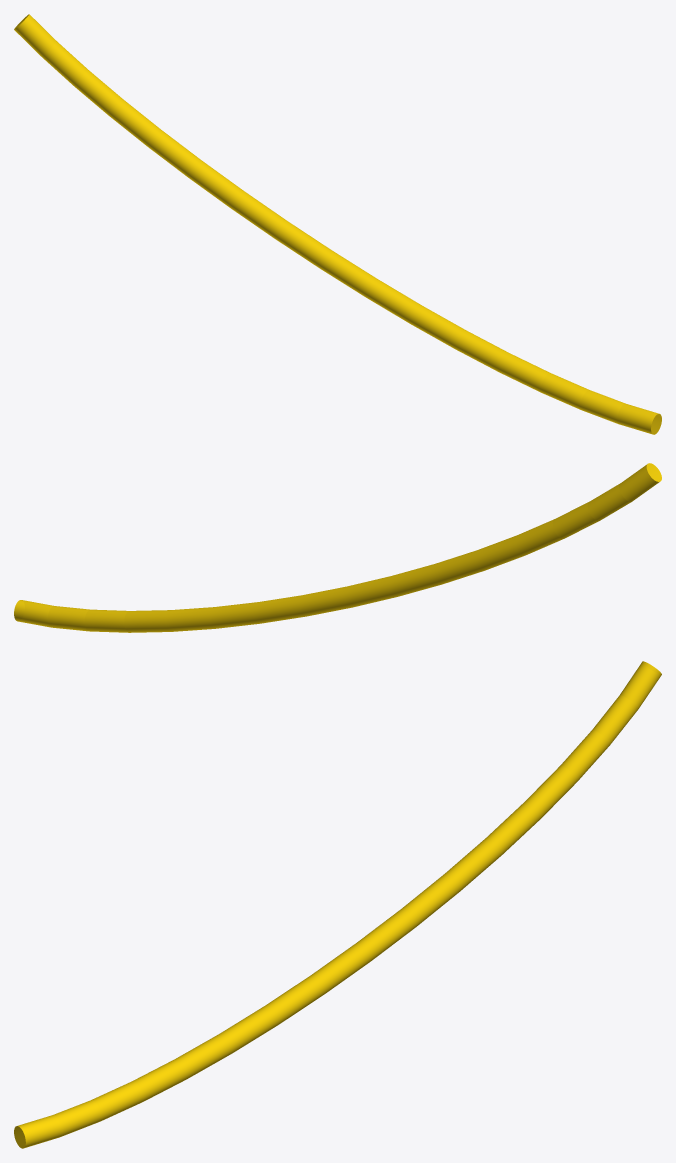
Rendered from Event_421115418_track_91.fbx.
The picture shows the model from 3 angles, top to bottom: view 1: azimuth 30°, elevation 25°; view 2: azimuth 210°, elevation 25°; view 3: azimuth 270°, elevation 25°; orthographic projection. The views are drawn at different scales.
Visible parts, largest first — view 1: Model; view 2: Model; view 3: Model.
Boxes of the visible parts, bbox=[...] form: Model: bbox=[14, 14, 661, 434]; Model: bbox=[14, 463, 661, 632]; Model: bbox=[14, 661, 661, 1148].
Size of the model in its own units: 0.7523 by 0.5788 by 1.1.
